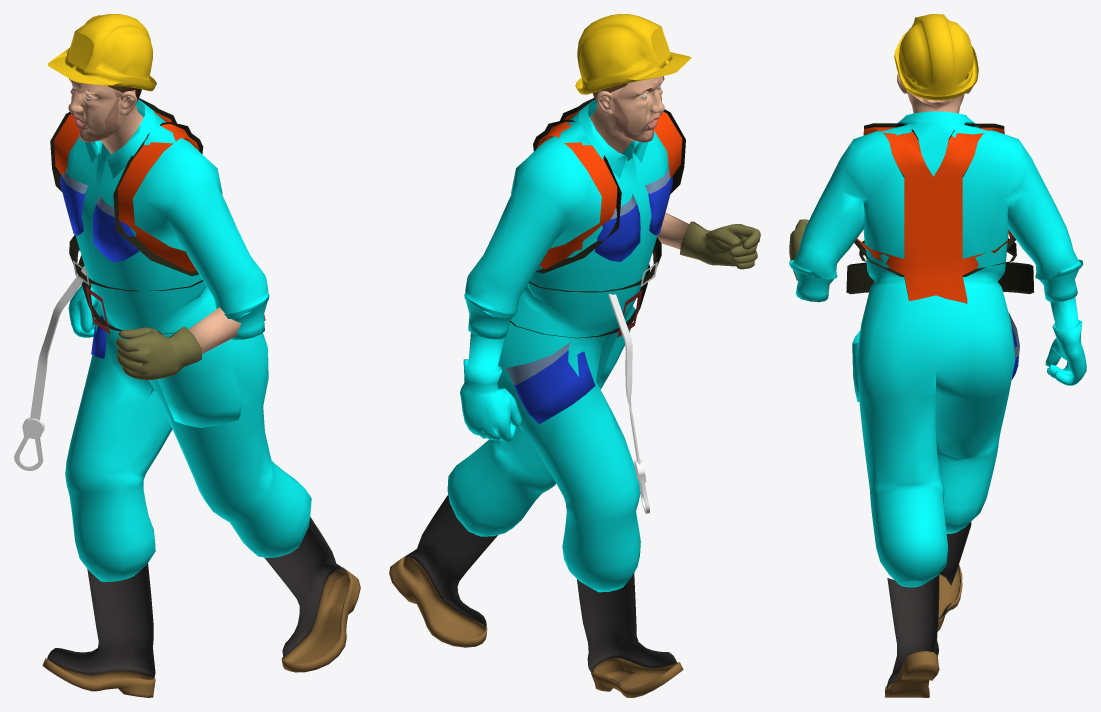
The model's file is tkb-SAFETY_ROPE.glb.
3 renders of one model, left to right at view 1: azimuth 30°, elevation 25°; view 2: azimuth 150°, elevation 25°; view 3: azimuth 270°, elevation 25°, orthographic. The views are drawn at different scales.
Parts seen in each view (by area): view 1: entity, model 6, model; view 2: entity, model 6, model; view 3: entity, model 6, model 5.
Boxes of the visible parts, x1=… form: entity: x1=42, y1=14, x2=360, y2=697; model 6: x1=50, y1=98, x2=203, y2=276; model: x1=14, y1=266, x2=87, y2=470; entity: x1=389, y1=14, x2=760, y2=697; model 6: x1=533, y1=98, x2=685, y2=273; model: x1=608, y1=293, x2=649, y2=513; entity: x1=789, y1=14, x2=1086, y2=697; model 6: x1=854, y1=123, x2=1015, y2=303; model 5: x1=846, y1=262, x2=1034, y2=294.
Size of the model in its own units: 0.818 by 1.77 by 0.7878.
